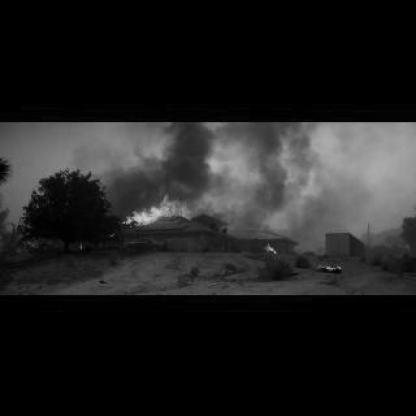fire: (118, 192, 191, 228), (264, 242, 277, 253)
